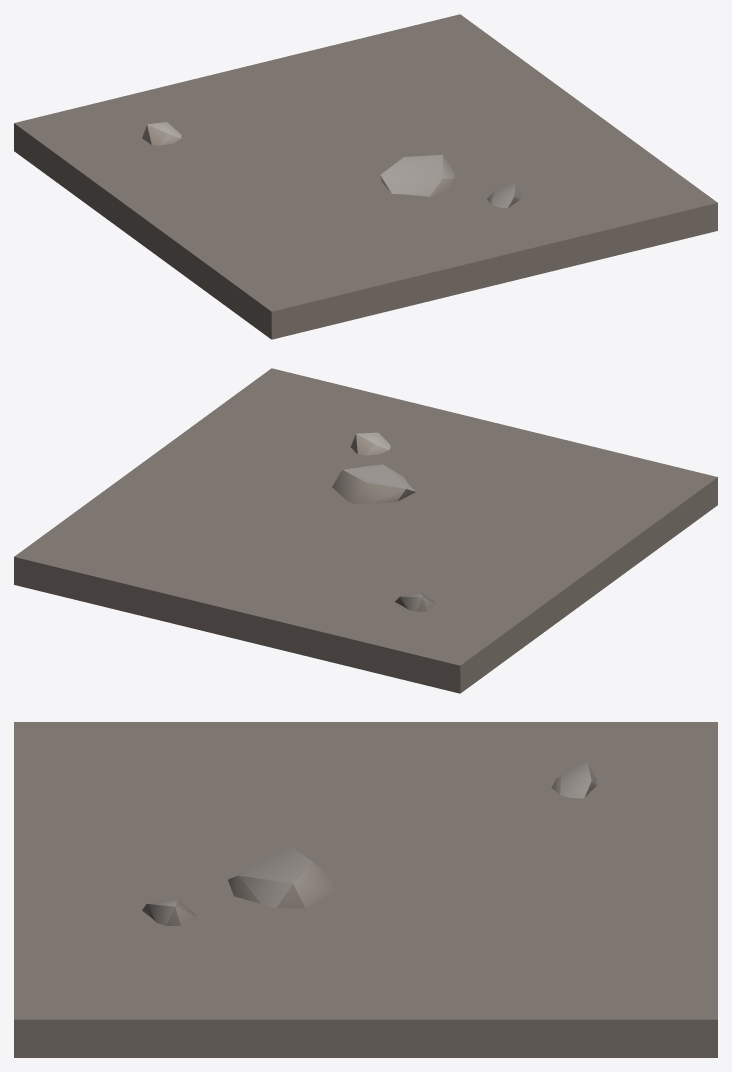
File: floor_dirt_small_A.obj
3 views of the same model, one above another, from view 1: azimuth 30°, elevation 25°; view 2: azimuth 150°, elevation 25°; view 3: azimuth 270°, elevation 25° (orthographic). The views are drawn at different scales.
Parts seen in each view (by area): view 1: floor_dirt_small_A; view 2: floor_dirt_small_A; view 3: floor_dirt_small_A.
Boxes of the visible parts, box(x1,y1,x2,y2) form: floor_dirt_small_A: box(14, 14, 717, 339); floor_dirt_small_A: box(14, 368, 717, 693); floor_dirt_small_A: box(14, 722, 717, 1057).
Size of the model in its own units: 2 by 0.1864 by 2.
Materials: 1 (1 with a texture image).
